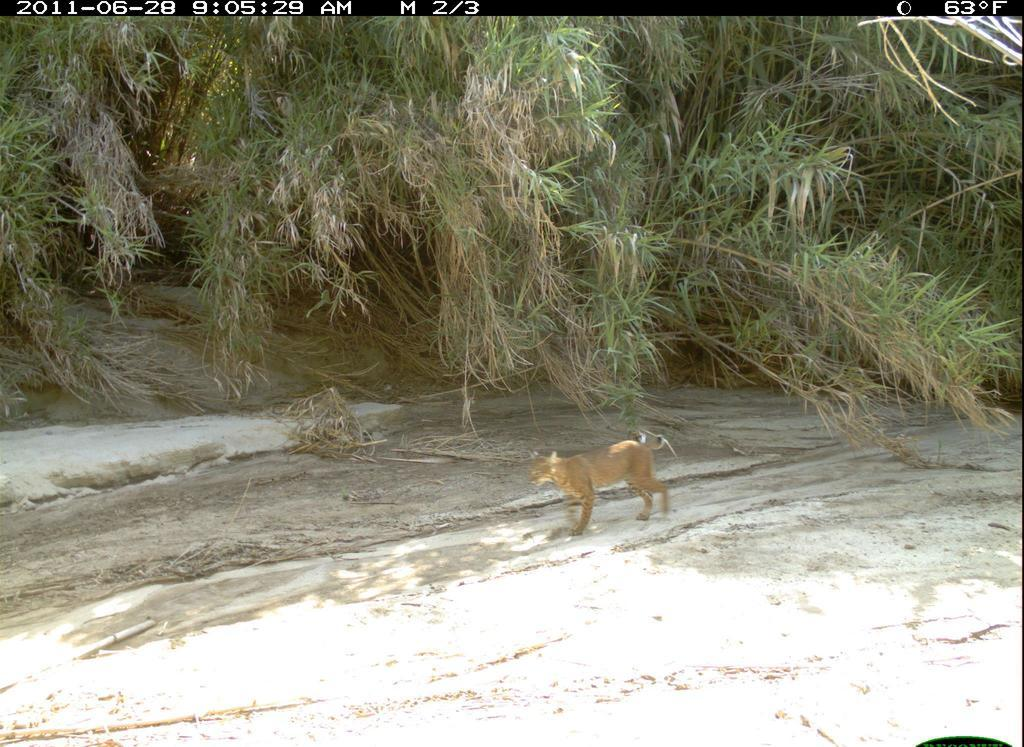bobcat: (524, 424, 683, 548)
